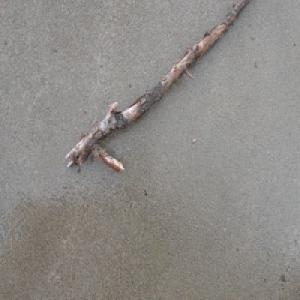Wood: (62, 0, 252, 175)
